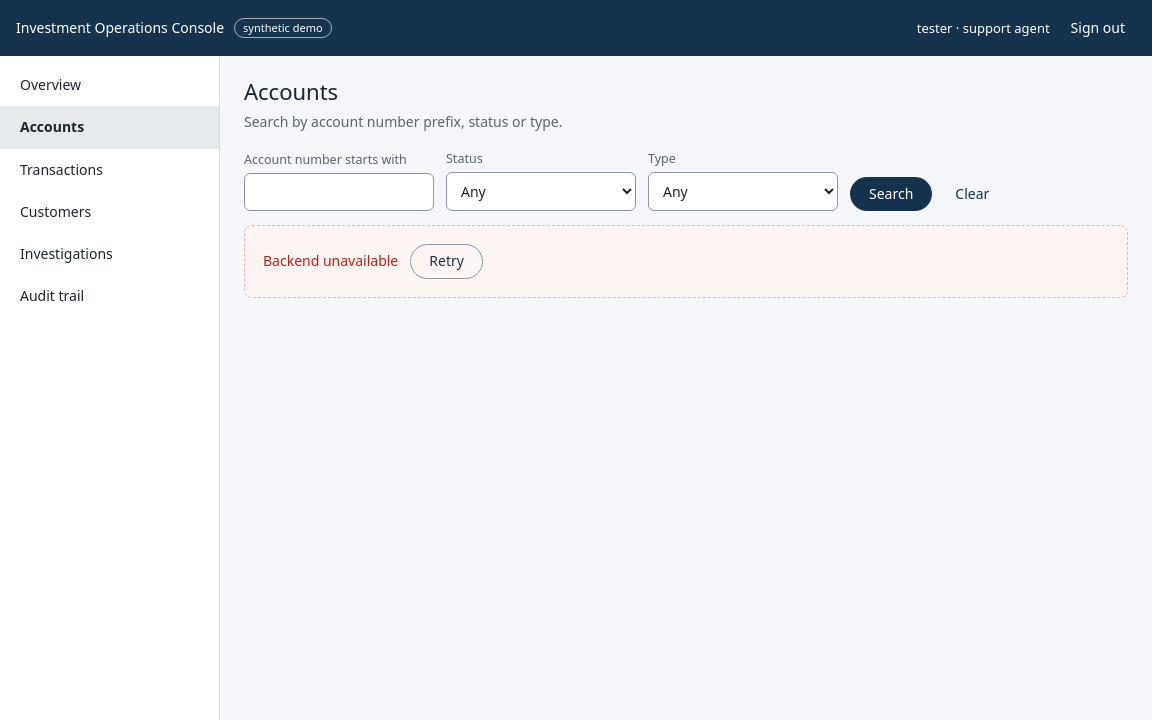
Test: Accounts › shows a retryable error when the server fails
Check: the message shows "Backend unavailable", box [263, 251, 398, 270]
Click the button "Retry": (447, 261) [410, 244, 483, 278]
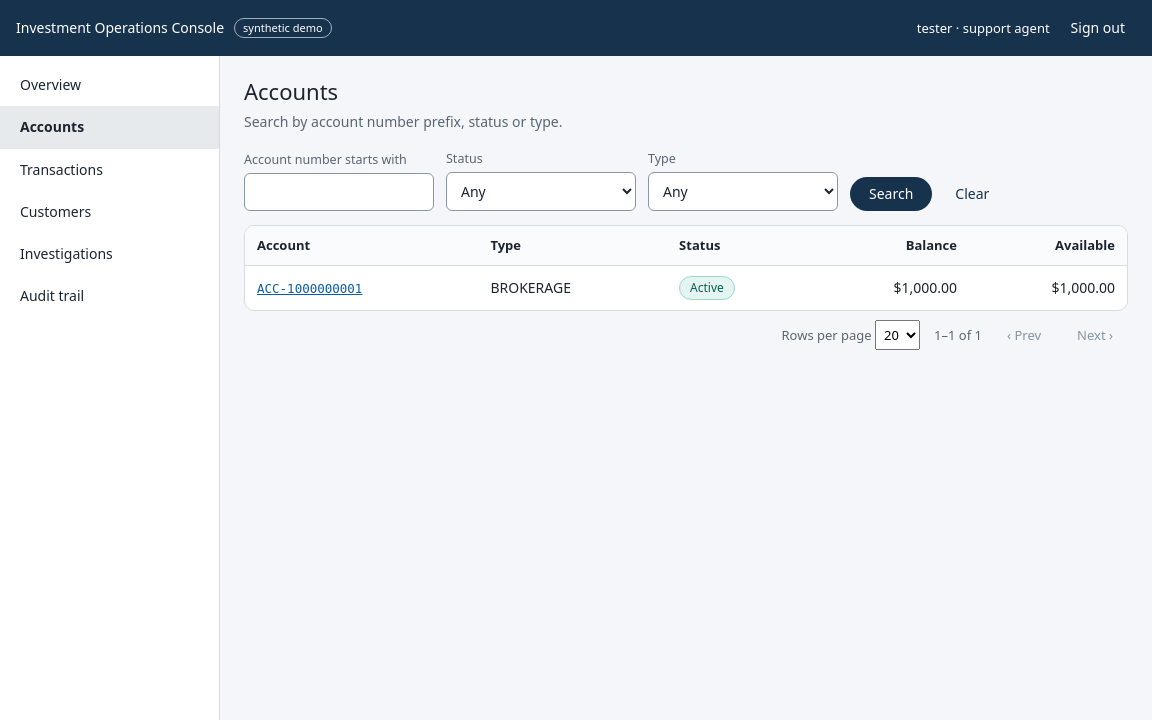
Check: the link "ACC-1000000001" is shown, box [257, 281, 362, 296]
